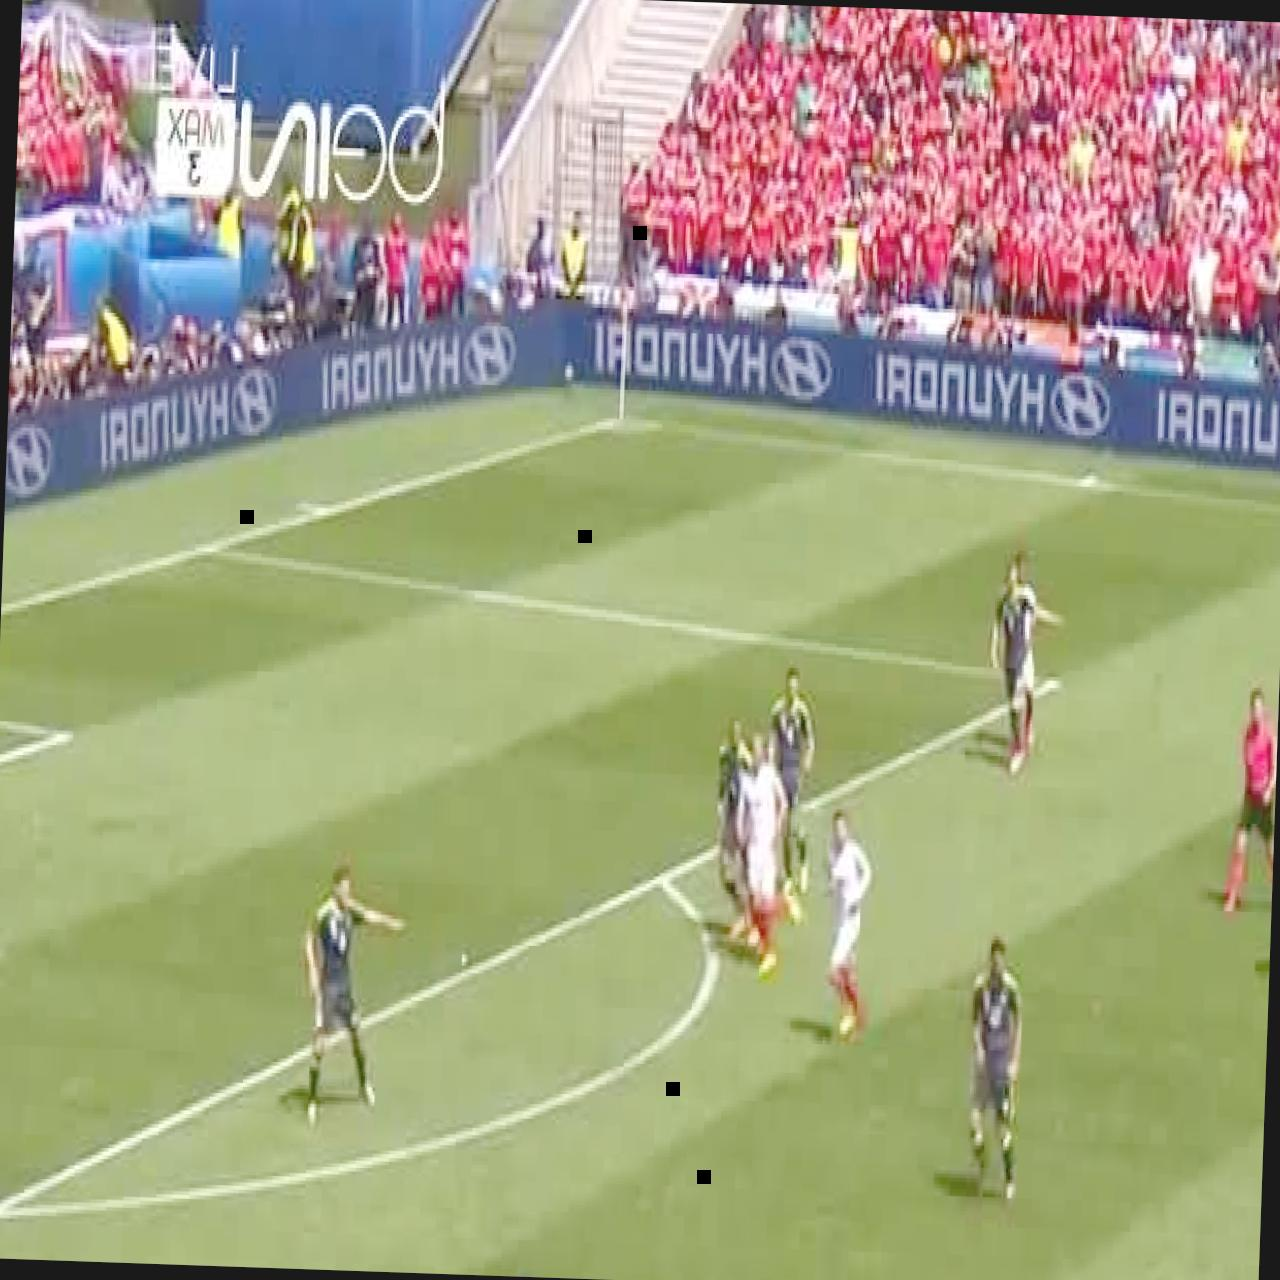football: (294, 868, 406, 1132), (732, 734, 802, 976), (967, 937, 1027, 1205), (996, 557, 1060, 769), (819, 808, 875, 1043), (764, 661, 819, 900), (1226, 686, 1279, 912), (986, 562, 1034, 782), (710, 722, 756, 948)
